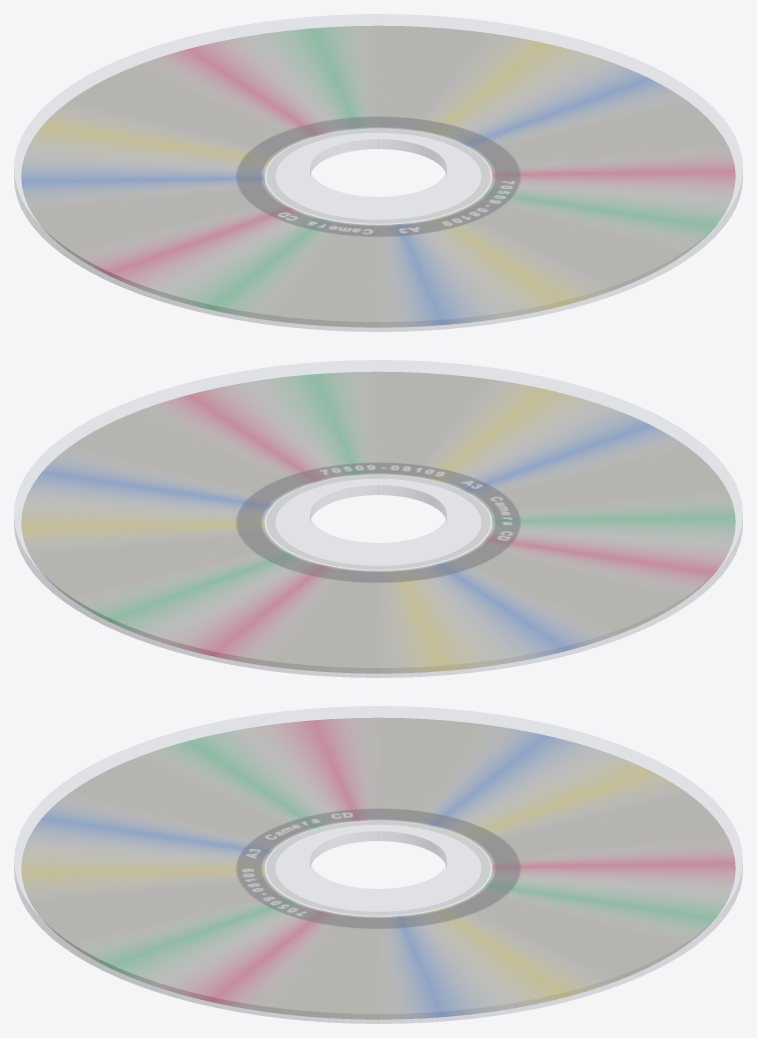
The model's file is mini-cd.glb.
3 renders of one model, top to bottom at view 1: azimuth 30°, elevation 25°; view 2: azimuth 150°, elevation 25°; view 3: azimuth 270°, elevation 25°, orthographic.
Parts seen in each view (by area): view 1: Поликарбонат, Рабочий слой мини-диска, Мини-диск 8 см; view 2: Поликарбонат, Рабочий слой мини-диска, Мини-диск 8 см; view 3: Поликарбонат, Рабочий слой мини-диска, Мини-диск 8 см.
Boxes of the visible parts, x1,y1,x2,y2 form: Поликарбонат: (14, 14, 742, 331); Рабочий слой мини-диска: (21, 25, 735, 327); Мини-диск 8 см: (266, 129, 490, 223); Поликарбонат: (14, 360, 742, 677); Рабочий слой мини-диска: (21, 371, 735, 673); Мини-диск 8 см: (266, 475, 490, 569); Поликарбонат: (14, 706, 742, 1023); Рабочий слой мини-диска: (21, 717, 735, 1019); Мини-диск 8 см: (266, 821, 490, 915).
Bounding box in the file's own units: 0.08 × 0.0012 × 0.08.
Materials: 3 (1 with a texture image).
